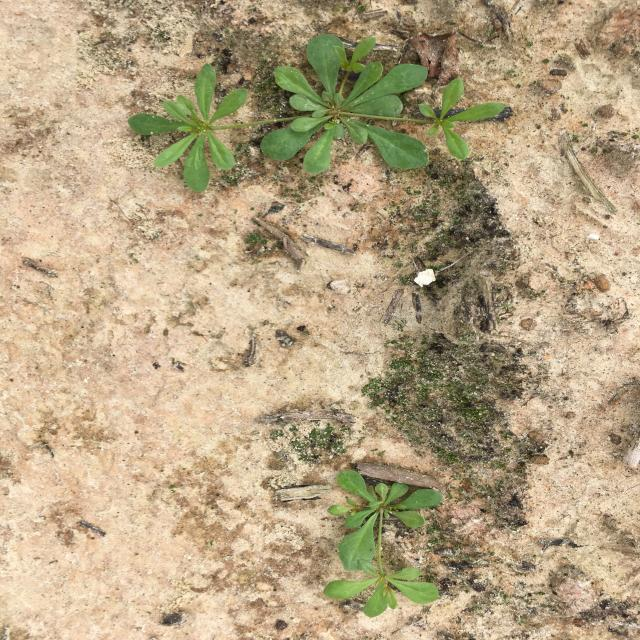Carpetweed: (127, 33, 507, 193), (323, 470, 443, 618)
